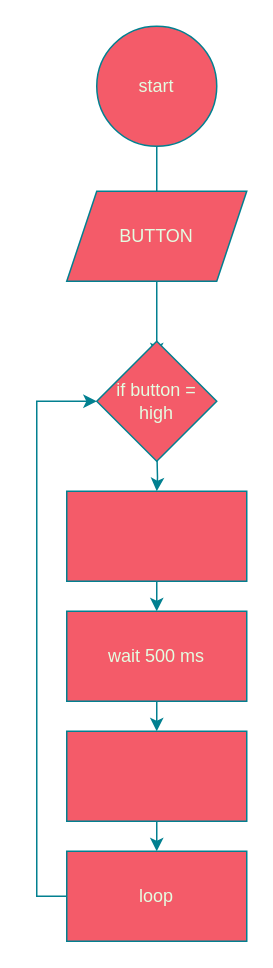
The diagram is 273 pixels wide and 968 high, and some of its shapes have lost their labels. Here are the shapes that lost their labels. From the top down, the centre of each, then its label:
At pixel 156 535: "digitalWrite LED high".
At pixel 156 775: "digitalWrite LED low".
